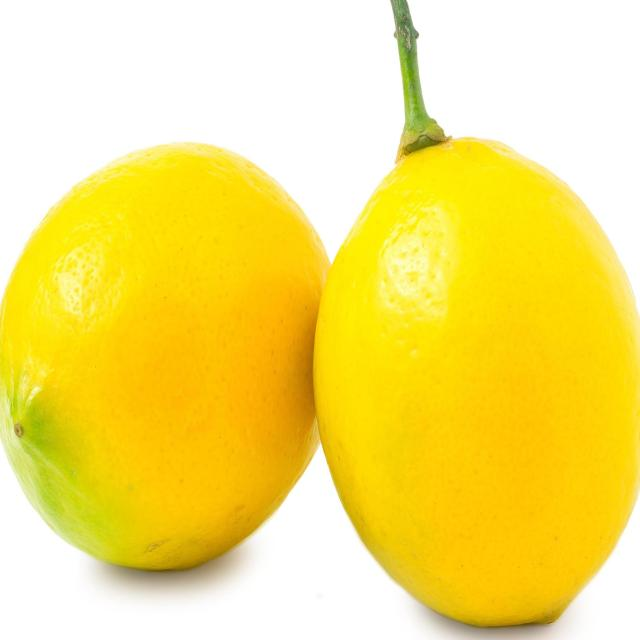lemon: (304, 121, 640, 640), (0, 133, 364, 581)
